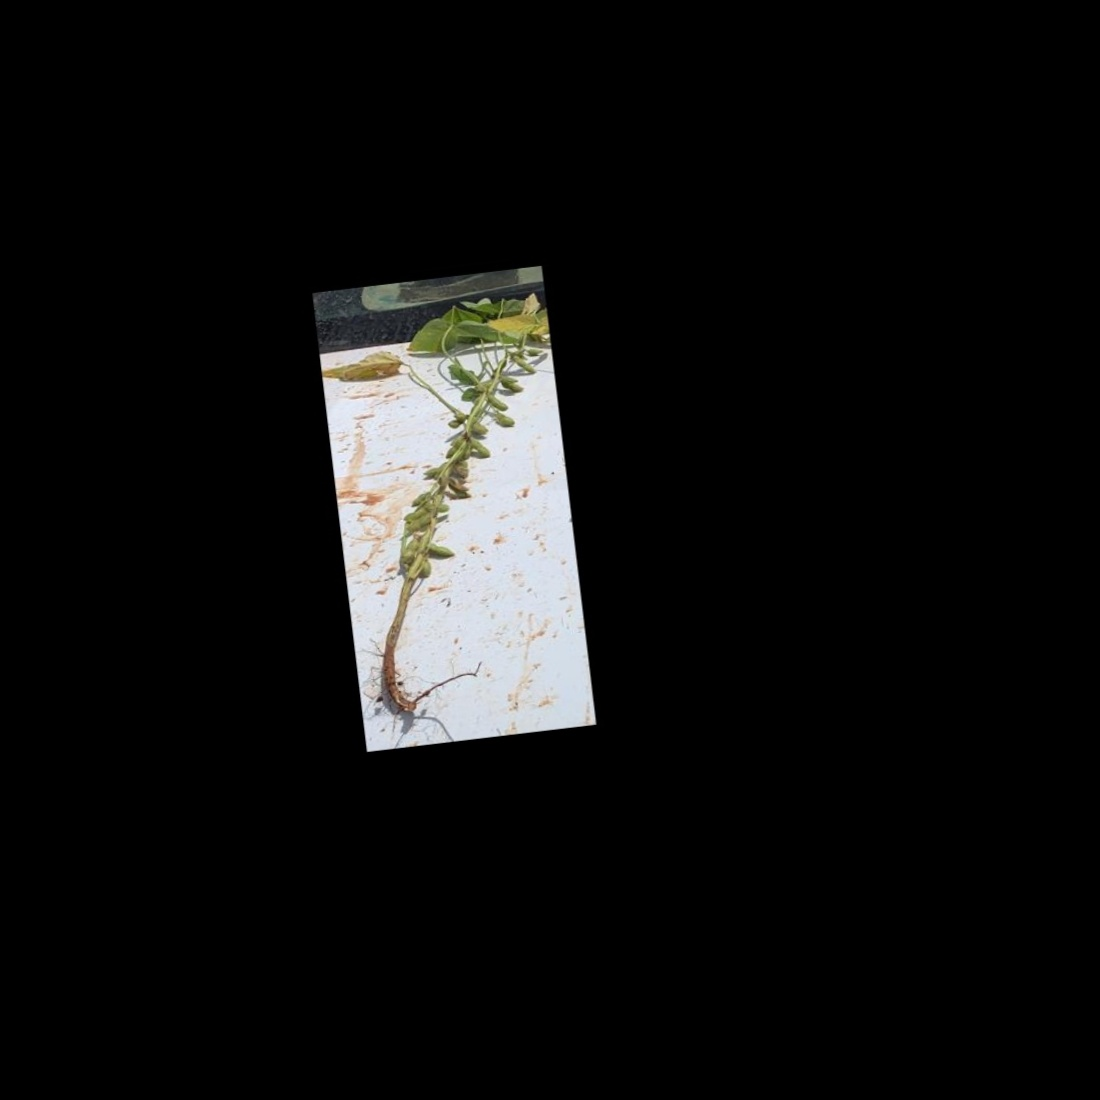pod: (418, 533, 457, 563), (489, 403, 519, 433), (482, 383, 509, 415), (467, 432, 493, 465), (509, 351, 538, 379), (398, 536, 423, 566)
soy: (323, 284, 587, 710)
